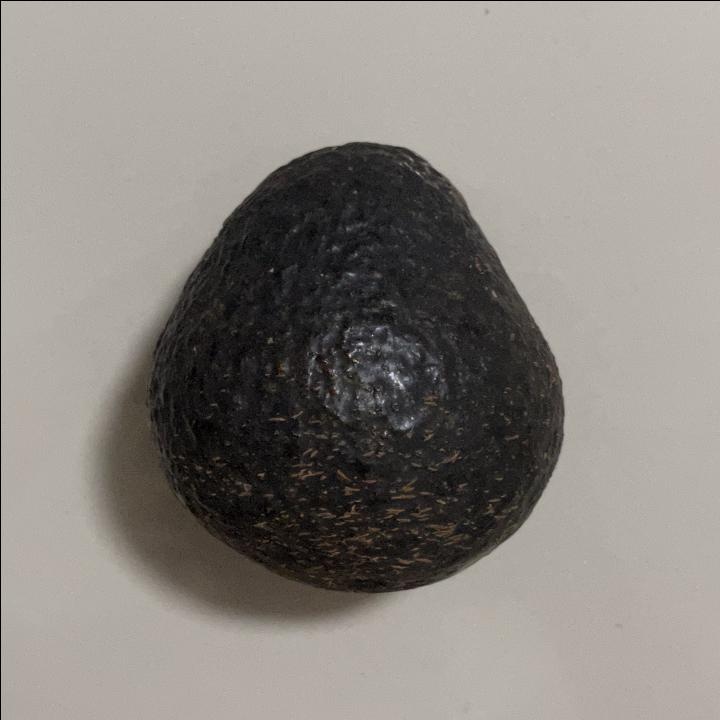Level2: (136, 132, 571, 600)
